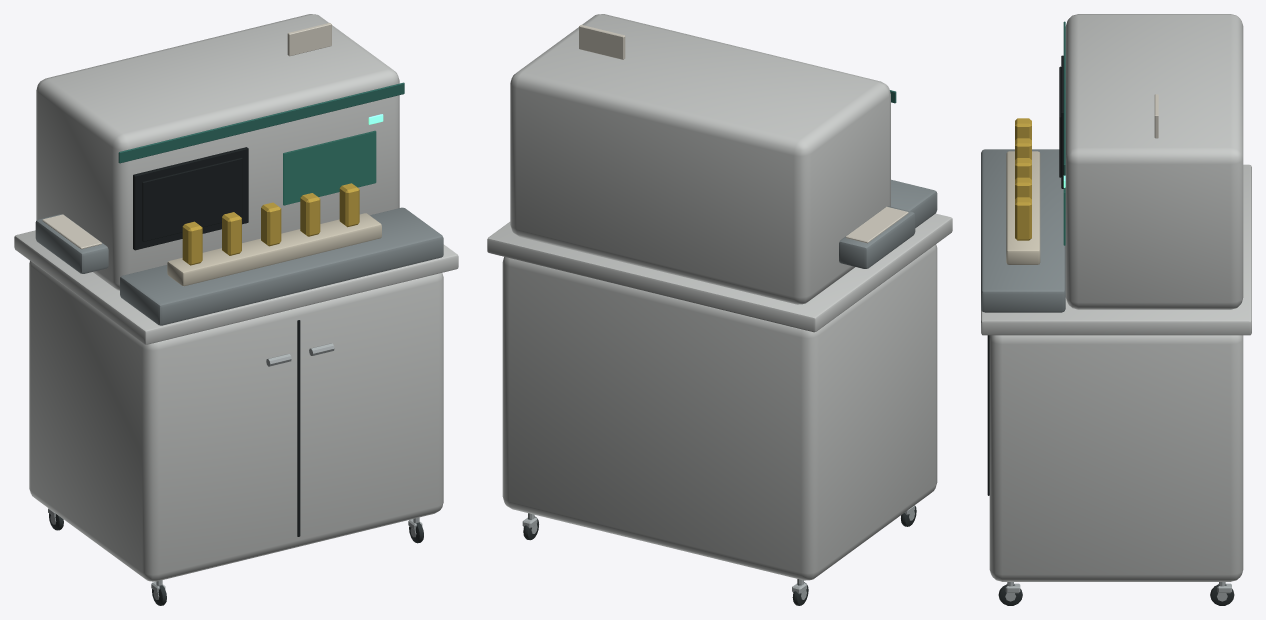
File: urinalysis-analyzer.glb
The picture shows the model from 3 angles, left to right: view 1: azimuth 30°, elevation 25°; view 2: azimuth 150°, elevation 25°; view 3: azimuth 270°, elevation 25°; orthographic projection. The views are drawn at different scales.
Visible parts, largest first — view 1: urinalysis-analyzer; view 2: urinalysis-analyzer; view 3: urinalysis-analyzer.
Part boxes in pixels (bbox=[...]): urinalysis-analyzer: bbox=[14, 14, 458, 605]; urinalysis-analyzer: bbox=[487, 14, 952, 605]; urinalysis-analyzer: bbox=[981, 14, 1251, 605].
Size of the model in its own units: 0.92 by 1.26 by 0.64.
